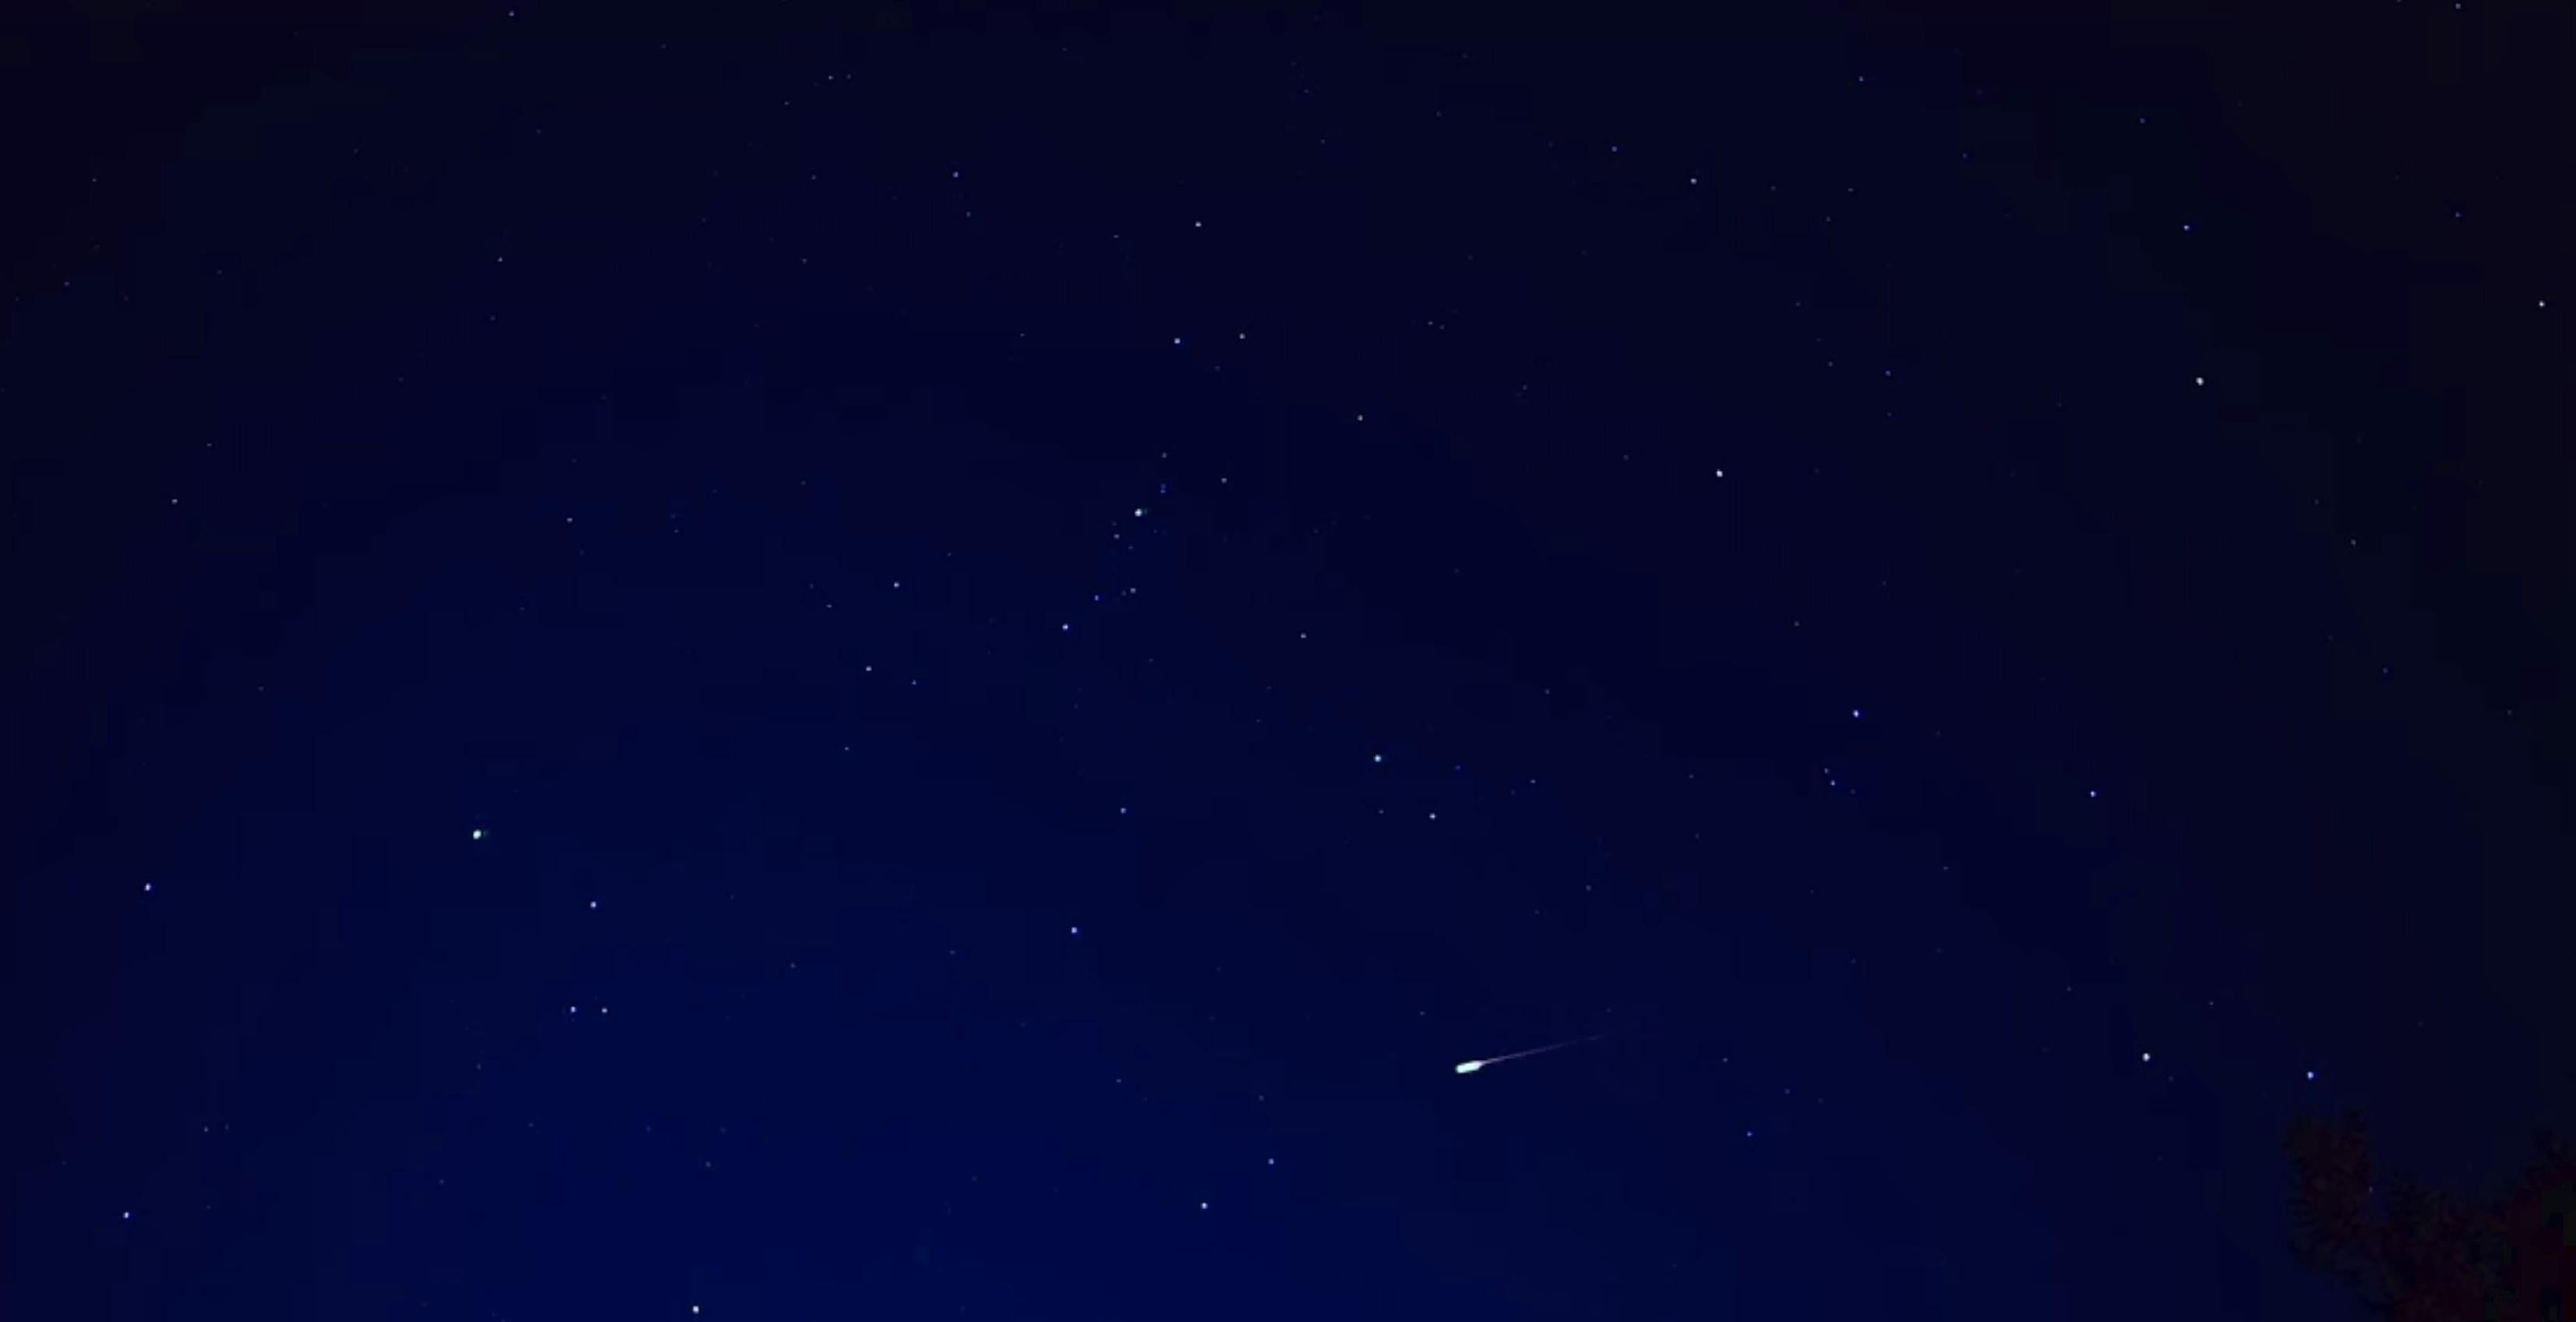meteorite: (1400, 1012, 1671, 1089)
